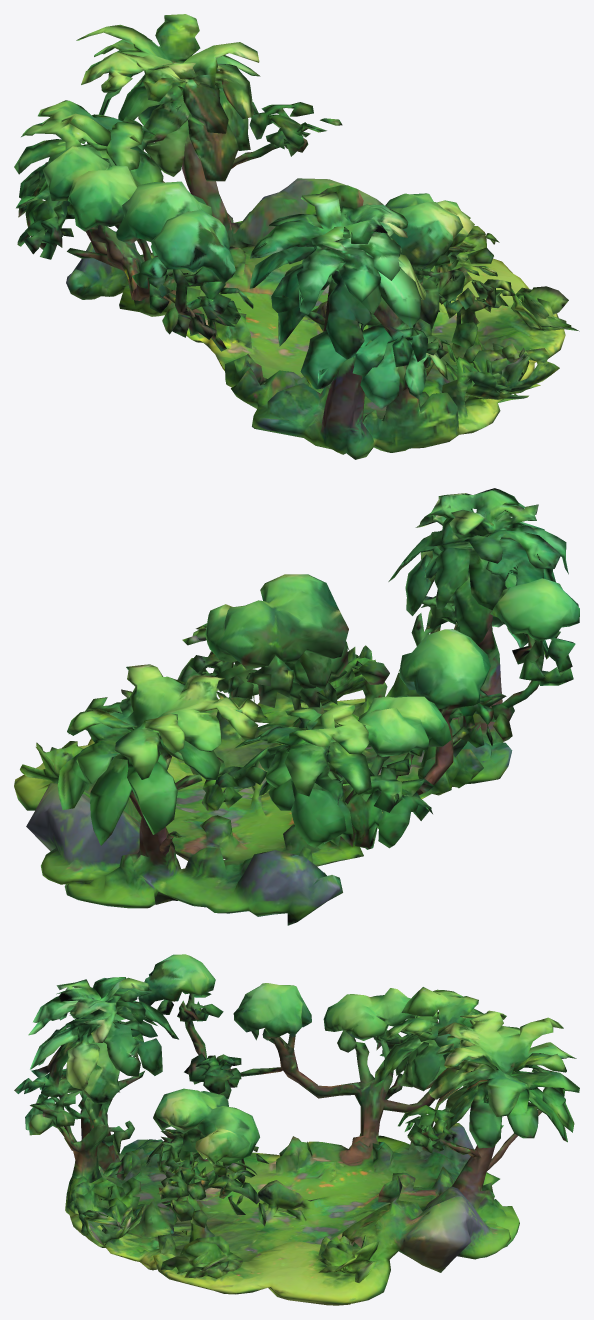
File: Plant_Jungle.glb
The picture shows the model from 3 angles, top to bottom: view 1: azimuth 30°, elevation 25°; view 2: azimuth 150°, elevation 25°; view 3: azimuth 270°, elevation 25°; orthographic projection. The views are drawn at different scales.
Parts seen in each view (by area): view 1: Mesh_0; view 2: Mesh_0; view 3: Mesh_0.
Boxes of the visible parts, x1,y1,x2,y2 form: Mesh_0: [14, 14, 579, 459]; Mesh_0: [14, 488, 579, 925]; Mesh_0: [14, 954, 579, 1305].
Bounding box in the file's own units: 0.3669 × 0.2 × 0.4844.
1 material, 1 textured.
